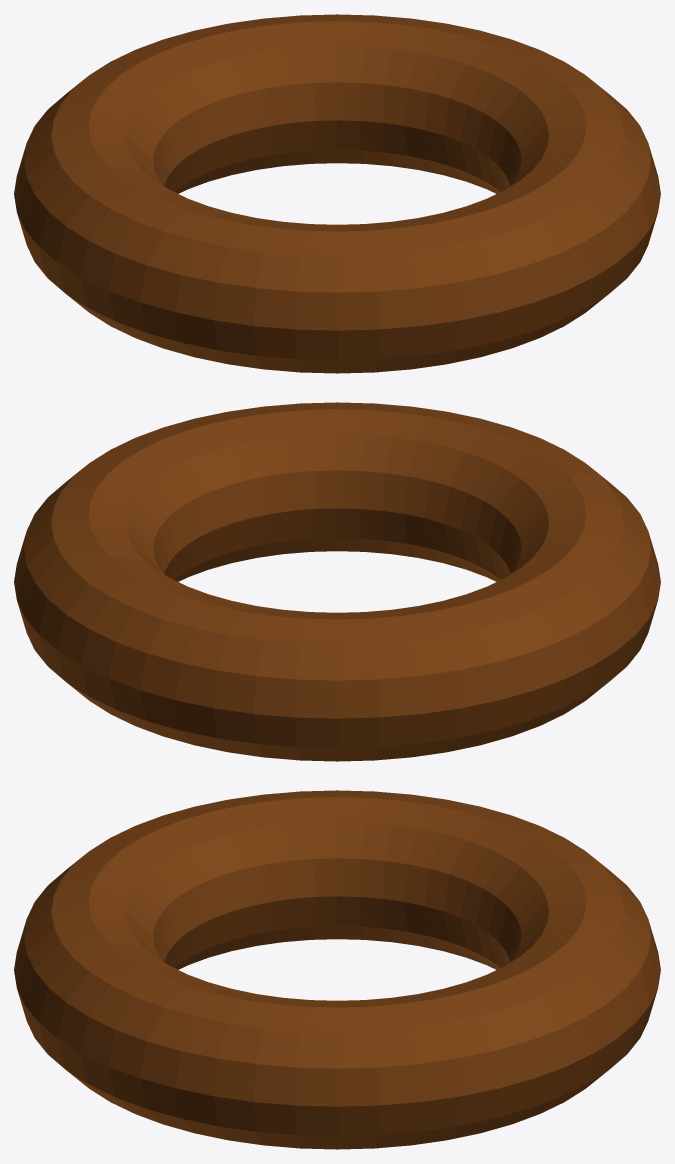
The picture shows the model from 3 angles, top to bottom: view 1: azimuth 30°, elevation 25°; view 2: azimuth 150°, elevation 25°; view 3: azimuth 270°, elevation 25°; orthographic projection.
Parts seen in each view (by area): view 1: torus; view 2: torus; view 3: torus.
Boxes of the visible parts, <box> form: torus: <box>14,14,660,373</box>; torus: <box>14,402,660,761</box>; torus: <box>14,790,660,1149</box>.
Size of the model in its own units: 2.6 by 0.6 by 2.6.
